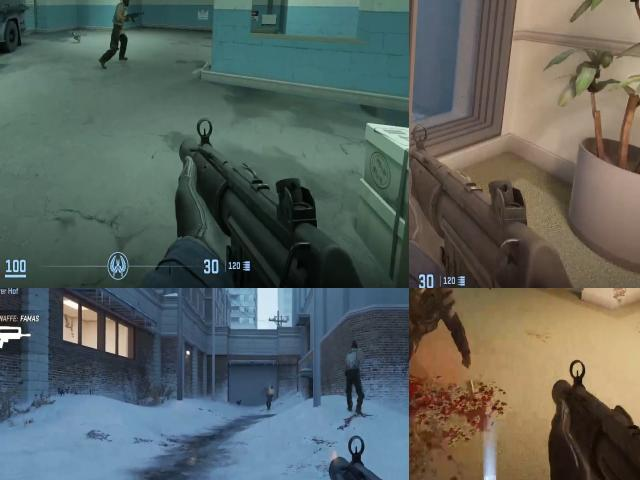Dead: (409, 288, 466, 415)
T: (342, 342, 364, 386), (110, 2, 130, 38)
T-Head: (349, 340, 358, 353), (121, 0, 132, 10)
